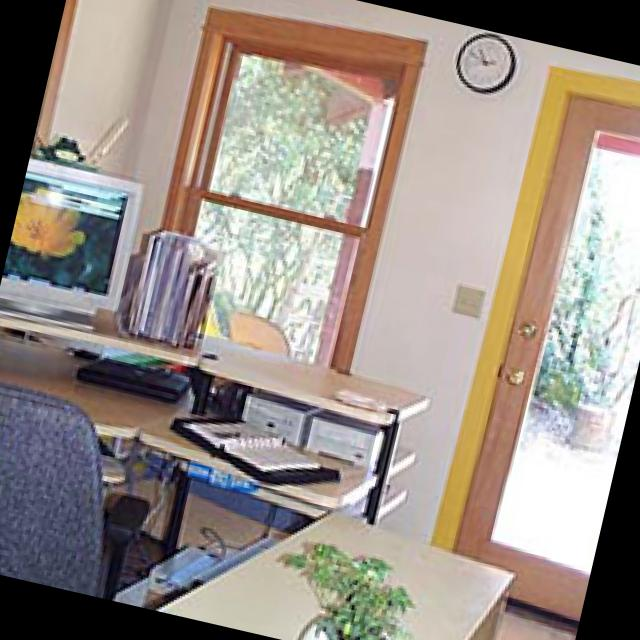2001: (141, 6, 431, 366)
chair: (231, 304, 297, 353)
chair -occluded-: (0, 382, 151, 597)
clock crop: (461, 31, 521, 88)
computers: (248, 386, 389, 469)
desk calendar: (0, 273, 434, 520), (161, 506, 519, 640)
door bars: (452, 90, 640, 616)
folders: (120, 224, 218, 342)
laptop computer: (79, 356, 194, 400)
monitor crop: (1, 156, 147, 312)
notebook: (177, 416, 343, 480)
plant -x: (284, 538, 416, 640)
printer: (145, 531, 285, 608)
rug -partially obscured-: (502, 611, 576, 640)
wall outlets: (453, 280, 492, 314)
